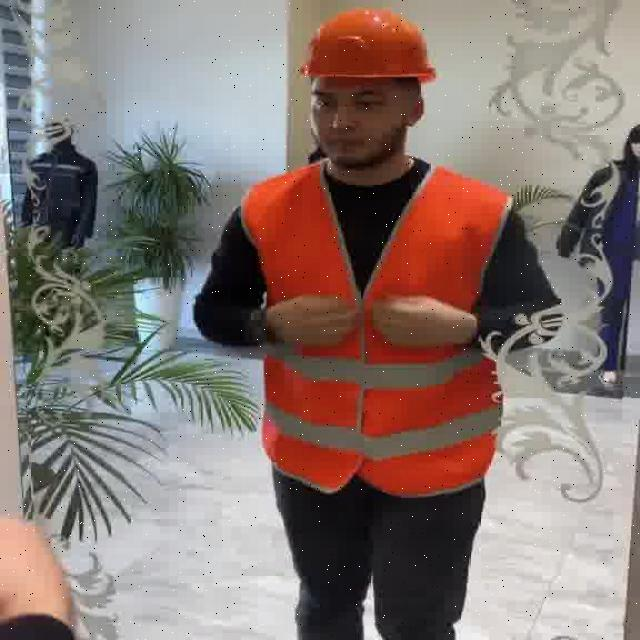Hard_hat: (284, 2, 447, 102)
Vest: (247, 164, 489, 504)
